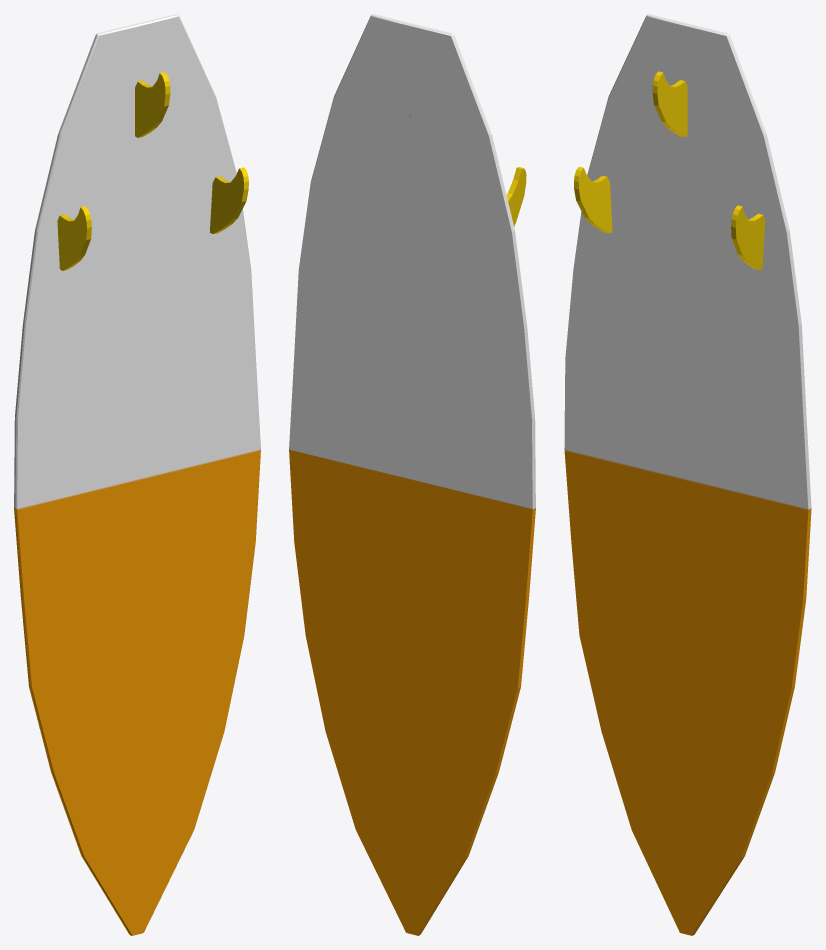
The model's file is SurfboardOrange.fbx.
The picture shows the model from 3 angles, left to right: view 1: azimuth 30°, elevation 25°; view 2: azimuth 150°, elevation 25°; view 3: azimuth 330°, elevation 25°; orthographic projection.
Parts seen in each view (by area): view 1: surfingBoard; view 2: surfingBoard; view 3: surfingBoard.
Boxes of the visible parts, bbox=[...] form: surfingBoard: bbox=[14, 14, 260, 935]; surfingBoard: bbox=[289, 14, 535, 935]; surfingBoard: bbox=[564, 14, 811, 935].
Size of the model in its own units: 1.36 by 4.8 by 0.3174.
